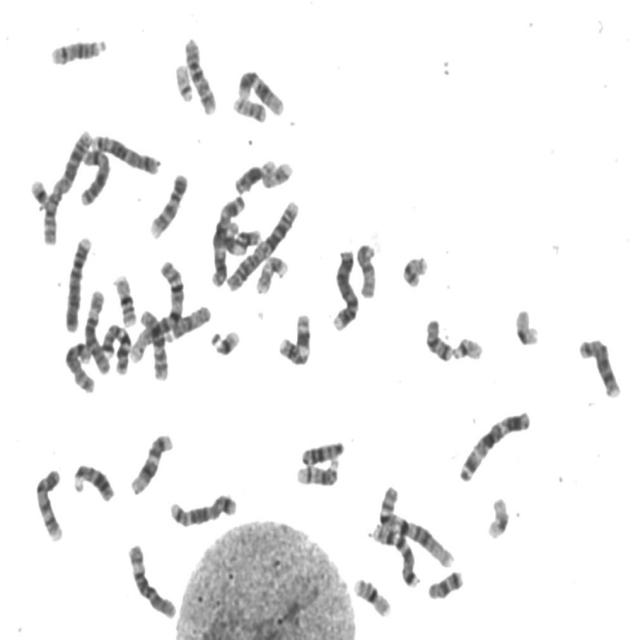A1: (374, 480, 456, 570), (126, 255, 186, 365)
A2: (222, 194, 301, 293), (38, 123, 94, 247)
A3: (454, 404, 533, 484), (207, 189, 246, 287)
B4: (60, 230, 93, 333), (328, 244, 359, 332)
B5: (86, 128, 162, 176), (166, 487, 238, 529)
C10: (180, 30, 219, 117), (135, 304, 170, 382)
C11: (274, 307, 313, 367), (222, 221, 265, 255)
C12: (126, 426, 175, 496), (232, 63, 286, 117)
C6: (124, 538, 178, 620), (80, 282, 112, 376)
C7: (367, 517, 421, 589), (98, 318, 132, 376)
C8: (574, 331, 622, 399), (60, 335, 96, 395)
C9: (145, 167, 190, 239), (31, 463, 64, 543)
D13: (69, 457, 116, 503), (297, 434, 346, 467)
D14: (46, 32, 109, 67), (292, 453, 341, 488)
D15: (165, 299, 212, 341), (352, 238, 378, 300)
E16: (349, 572, 393, 618), (108, 269, 139, 328)
E17: (251, 249, 289, 296), (258, 154, 294, 190)
E18: (422, 313, 454, 363), (424, 564, 464, 601)
F19: (511, 302, 541, 347), (483, 492, 511, 540)
F20: (229, 90, 268, 124), (399, 250, 430, 289)
G21: (207, 322, 242, 358), (26, 173, 52, 210)
G22: (170, 57, 196, 103), (448, 332, 485, 362)
X: (76, 142, 112, 206)
